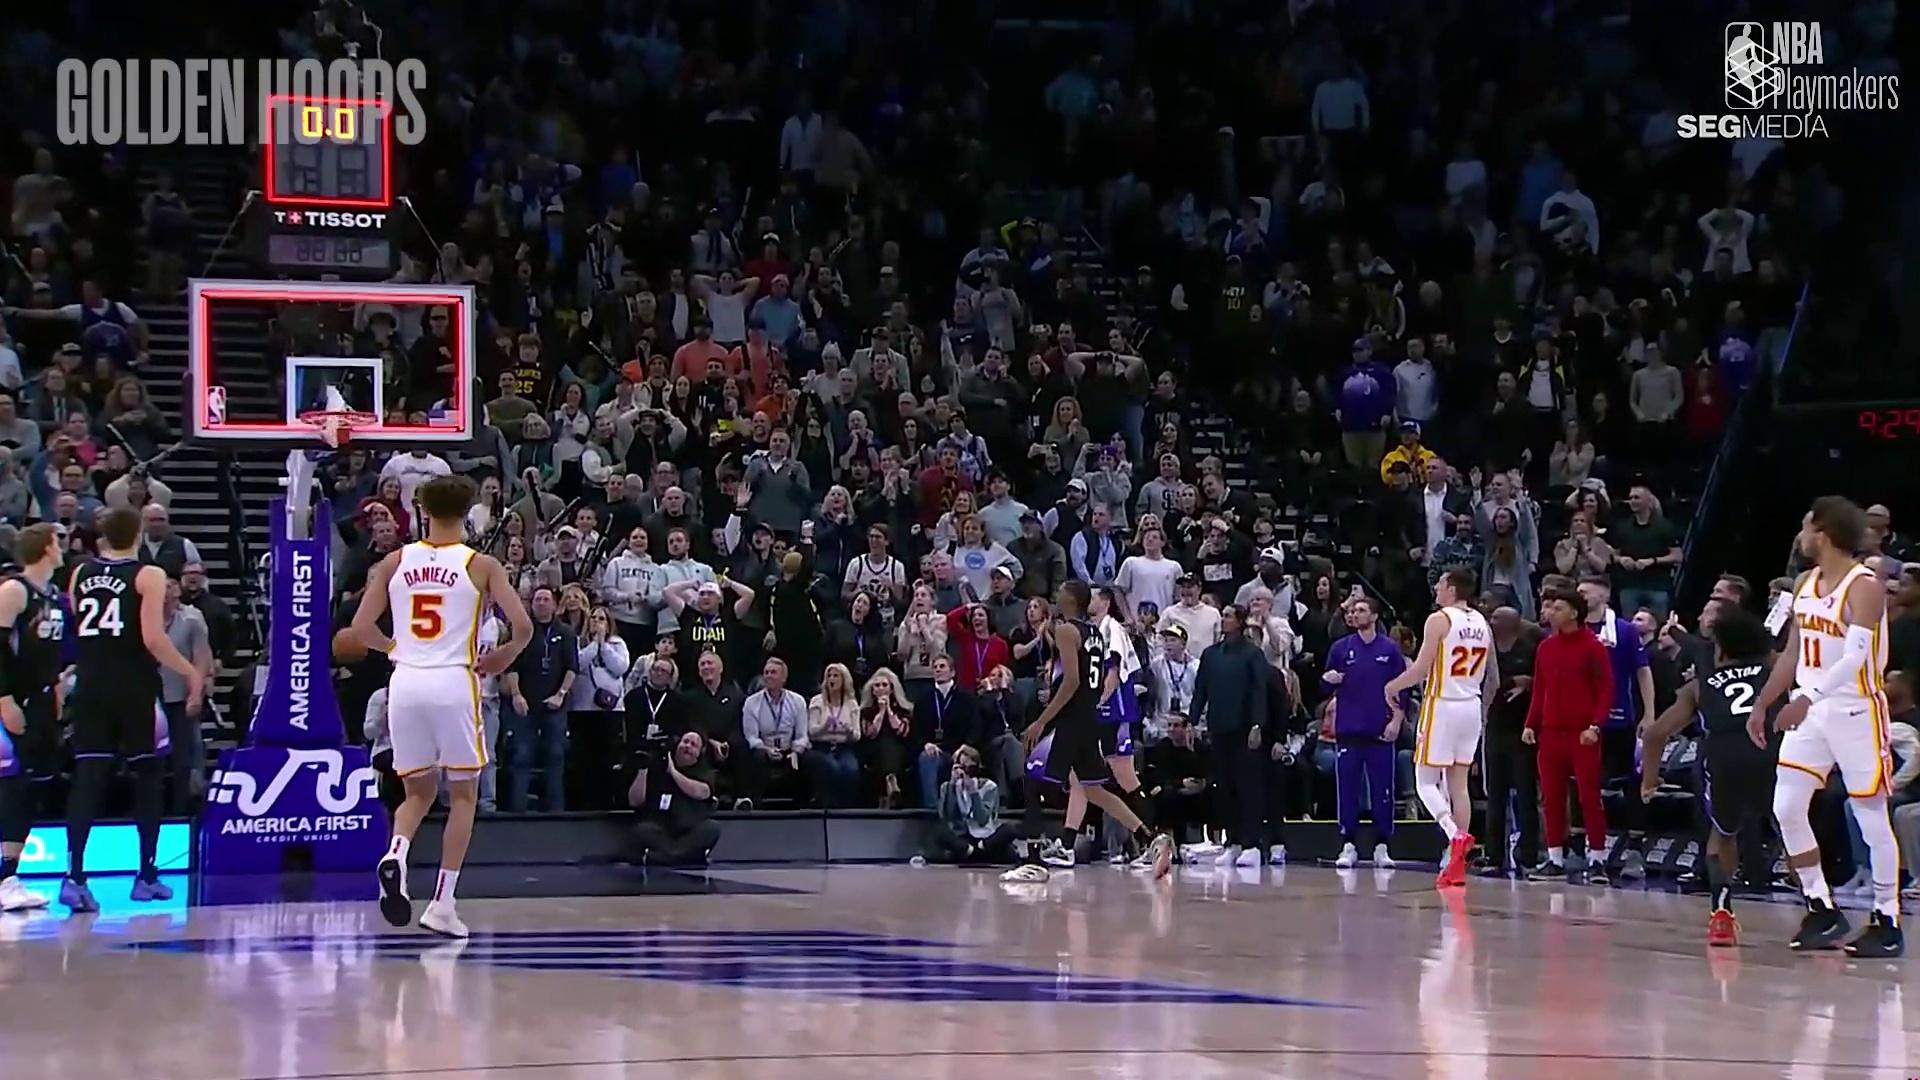hoop: (305, 402, 365, 459)
